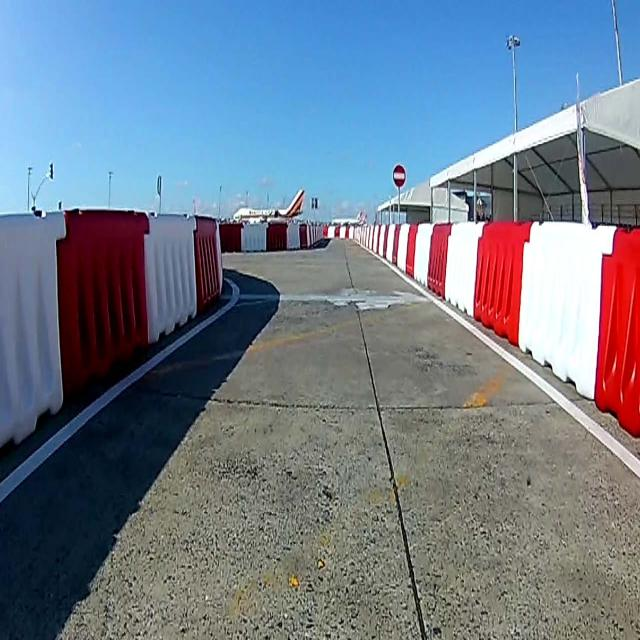girisyok: (392, 163, 406, 190)
